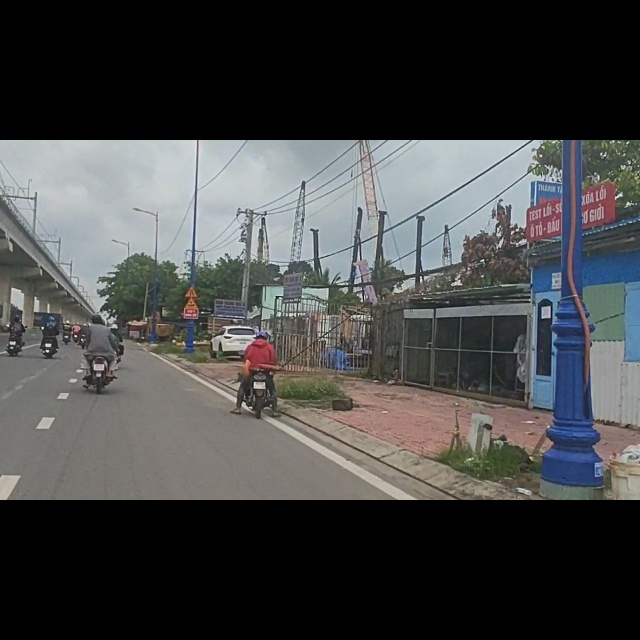bien_nguy_hiem: (185, 257, 199, 280), (185, 280, 199, 300)
